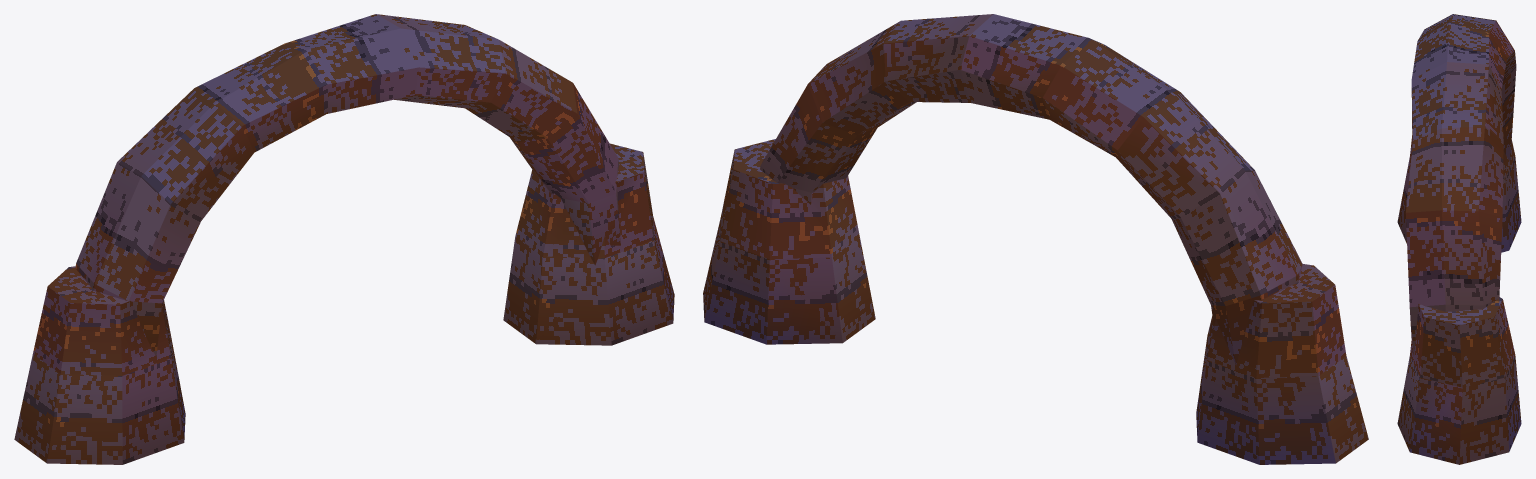
The model's file is alien.arch.glb.
3 renders of one model, left to right at view 1: azimuth 30°, elevation 25°; view 2: azimuth 150°, elevation 25°; view 3: azimuth 270°, elevation 25°, orthographic. The views are drawn at different scales.
Visible parts, largest first — view 1: kit_span, kit_leg_w, kit_leg_e; view 2: kit_span, kit_leg_e, kit_leg_w; view 3: kit_span, kit_leg_e, kit_leg_w.
Boxes of the visible parts, left/top/right/bottom form: kit_span: left=75, top=14, right=620, bottom=356; kit_leg_w: left=14, top=266, right=185, bottom=464; kit_leg_e: left=503, top=143, right=674, bottom=345; kit_span: left=760, top=14, right=1302, bottom=365; kit_leg_e: left=703, top=139, right=875, bottom=344; kit_leg_w: left=1196, top=264, right=1368, bottom=464; kit_span: left=1405, top=14, right=1516, bottom=355; kit_leg_e: left=1397, top=297, right=1521, bottom=464; kit_leg_w: left=1397, top=135, right=1521, bottom=252.
Size of the model in its own units: 9.88 by 4.99 by 1.95.
Materials: 1 (1 with a texture image).
